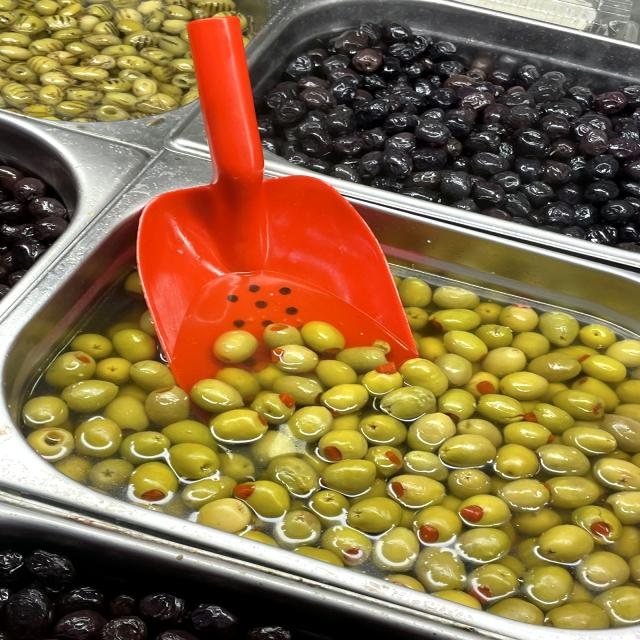olive: (363, 72, 588, 179), (400, 113, 464, 148)
